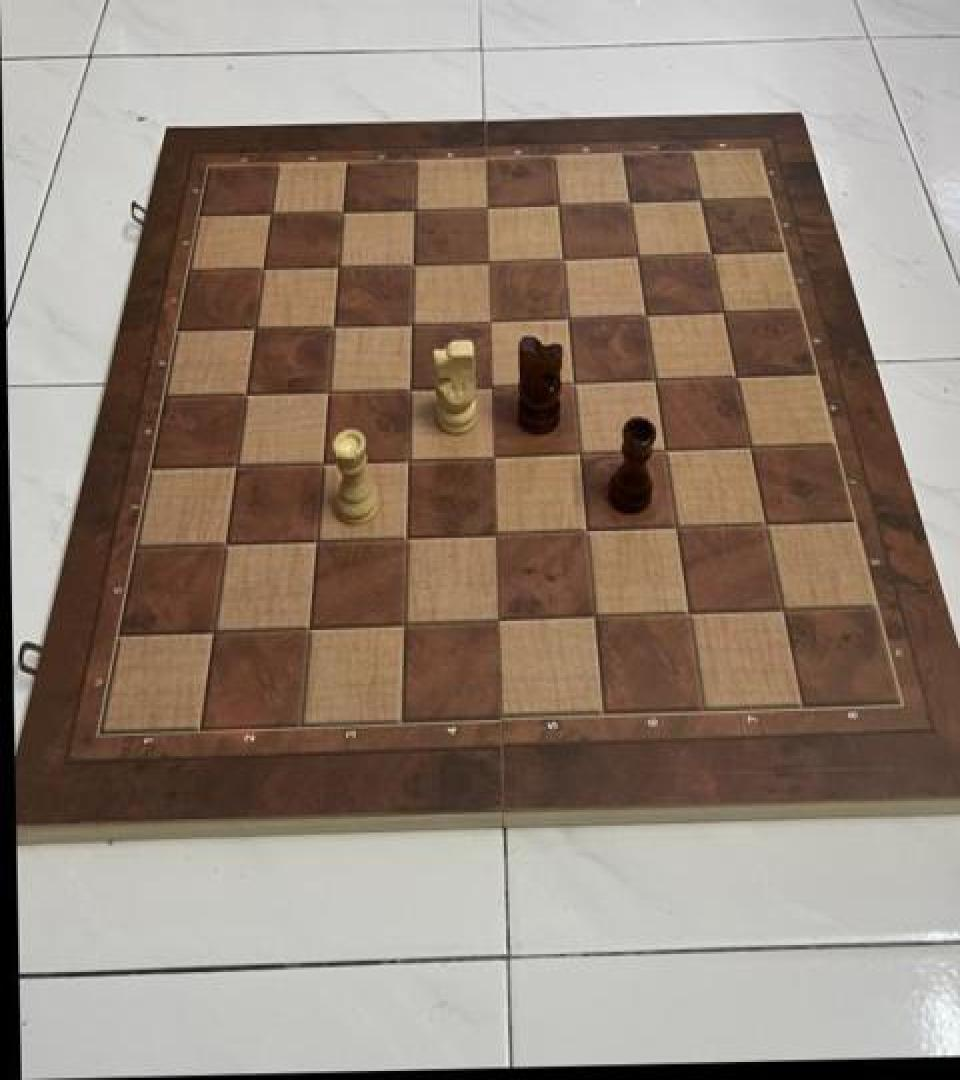xcorner: (550, 237, 584, 276), (709, 291, 743, 330), (294, 606, 328, 645), (687, 180, 721, 218), (617, 181, 651, 219), (546, 184, 580, 222), (474, 186, 508, 224), (403, 188, 437, 226), (331, 189, 365, 227), (258, 192, 292, 230), (698, 233, 732, 271), (624, 235, 658, 273), (476, 240, 510, 278), (401, 242, 435, 280), (326, 244, 360, 282), (250, 246, 284, 284), (632, 294, 666, 332), (555, 296, 589, 334), (477, 300, 511, 338), (399, 302, 433, 340), (321, 304, 355, 342), (242, 306, 276, 344), (721, 354, 755, 392), (641, 358, 675, 396), (560, 360, 594, 398), (479, 364, 513, 402), (397, 366, 431, 404), (315, 369, 349, 407), (232, 372, 266, 410), (735, 424, 769, 462), (651, 428, 685, 466), (566, 431, 600, 469), (481, 434, 515, 472), (395, 438, 429, 476), (309, 441, 343, 479), (222, 444, 256, 482), (750, 502, 784, 540), (661, 505, 695, 543), (572, 508, 606, 546), (483, 512, 517, 550), (392, 516, 426, 554), (302, 520, 336, 558), (210, 523, 244, 561), (766, 586, 800, 624), (673, 591, 707, 629), (579, 595, 613, 633), (485, 598, 519, 636), (390, 603, 424, 641), (198, 611, 232, 649)
